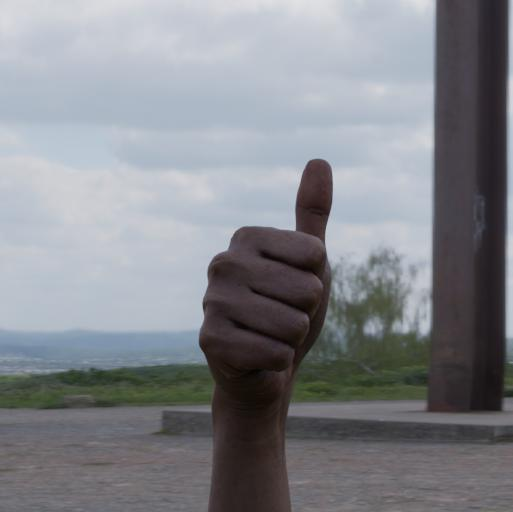thumbs-up: (196, 150, 338, 397)
